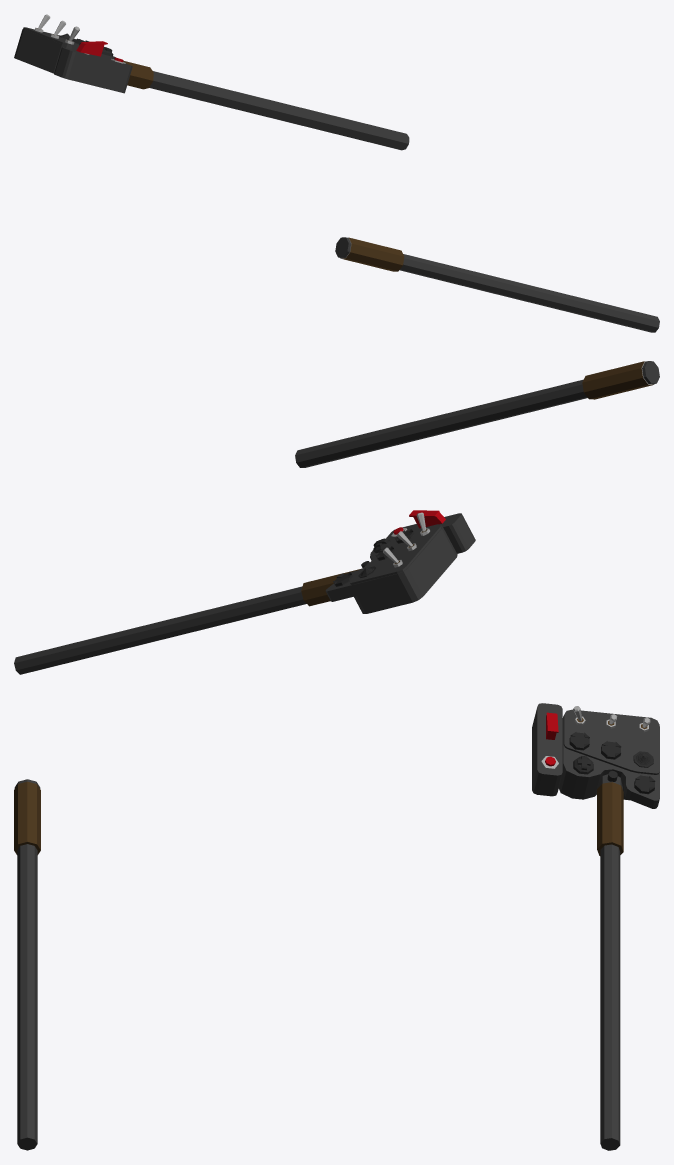
The model's file is collectivee.fbx.
3 renders of one model, top to bottom at view 1: azimuth 30°, elevation 25°; view 2: azimuth 150°, elevation 25°; view 3: azimuth 270°, elevation 25°, orthographic. The views are drawn at different scales.
Visible parts, largest first — view 1: Collective; view 2: Collective; view 3: Collective.
Part boxes in pixels (left/top/right/bottom): Collective: left=14, top=14, right=659, bottom=332; Collective: left=14, top=361, right=659, bottom=674; Collective: left=14, top=703, right=659, bottom=1150.
Bounding box in the file's own units: 68 × 37.2 × 86.43.
